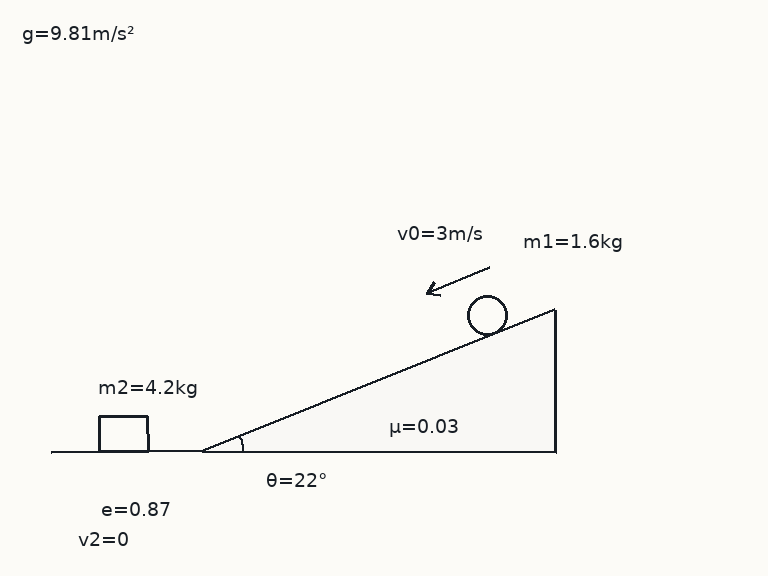ball: (465, 293, 509, 337)
block: (97, 413, 149, 453)
ramp: (201, 307, 556, 453)
